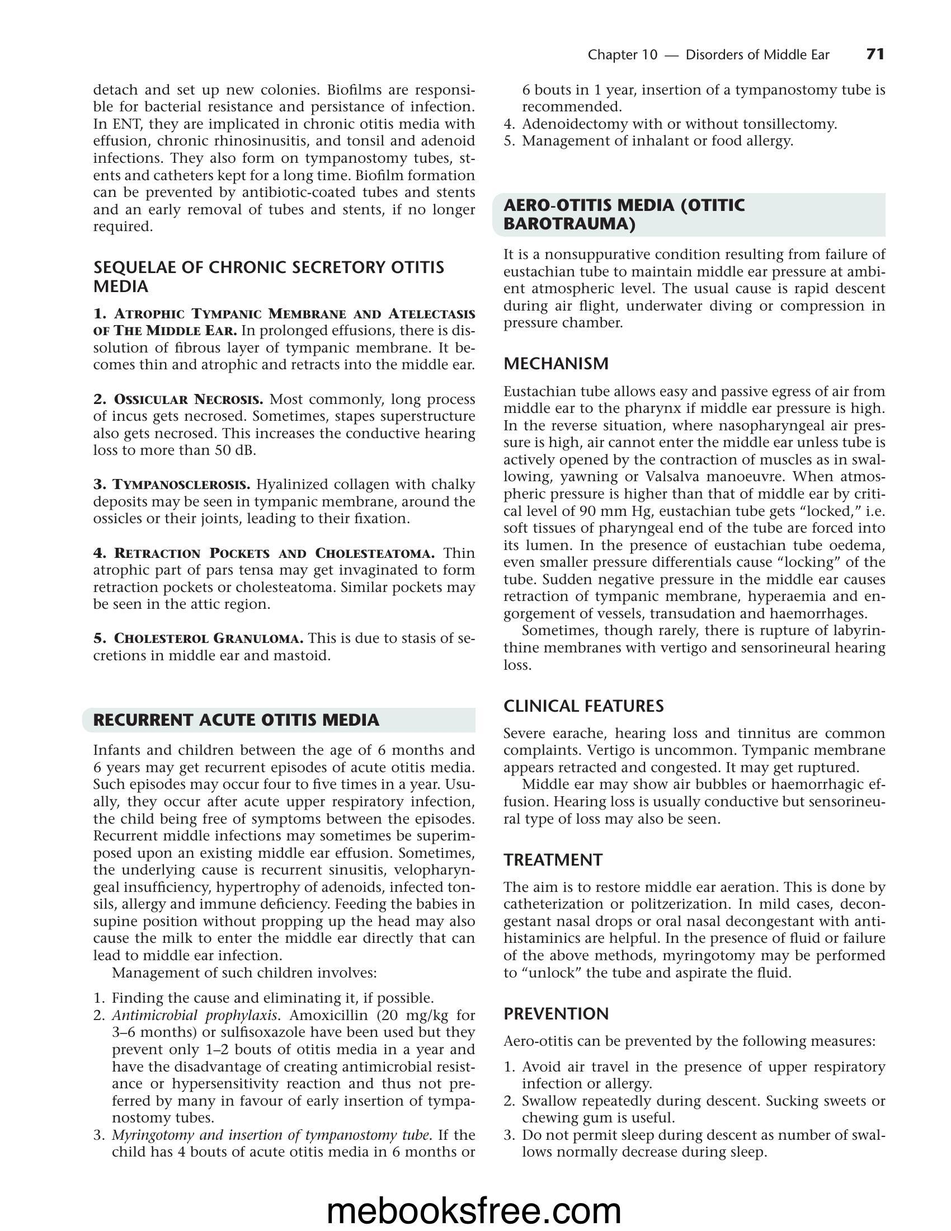header: (588, 48, 831, 64)
list: (92, 305, 477, 662), (92, 989, 477, 1160), (503, 1060, 887, 1162), (502, 80, 887, 151)
section-heading: (502, 197, 746, 234), (92, 711, 382, 727)
sub-section-heading: (93, 258, 446, 294), (502, 698, 666, 713), (503, 355, 609, 371), (502, 852, 604, 867), (503, 1006, 609, 1020)
text: (503, 384, 887, 672), (92, 741, 477, 982), (92, 82, 476, 237), (503, 726, 887, 829), (502, 880, 887, 982), (502, 246, 887, 331), (503, 1034, 876, 1050)
